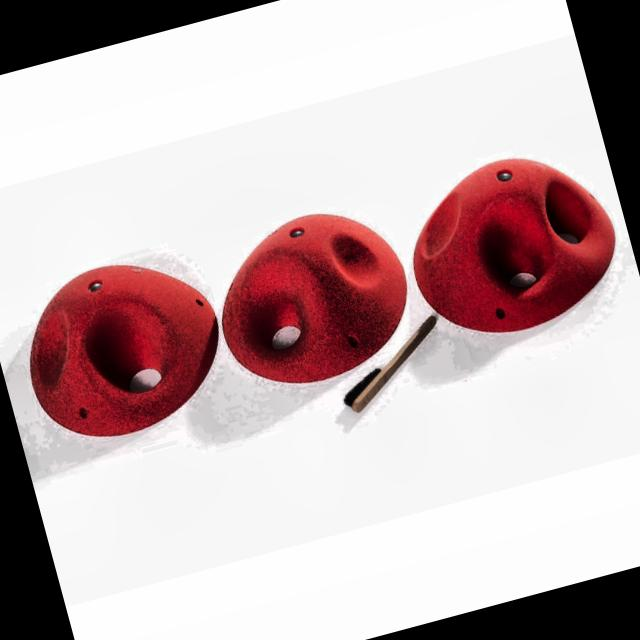Hold: (394, 135, 630, 353), (7, 241, 238, 454), (202, 194, 420, 400)
